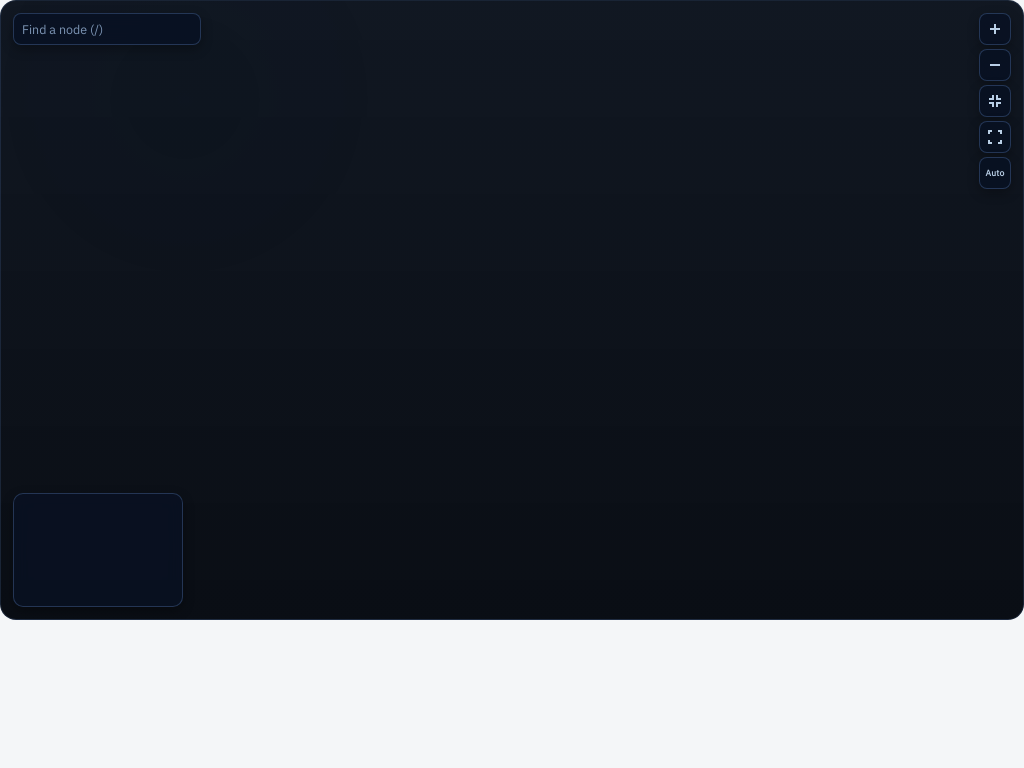
GraphCanvas map improvements › highlights search matches and centers the active one
Type "treasury" into the field with placeholder "Find a node (/)".
click(107, 29); type("treasury")  # box left=22, top=18, right=192, bottom=40
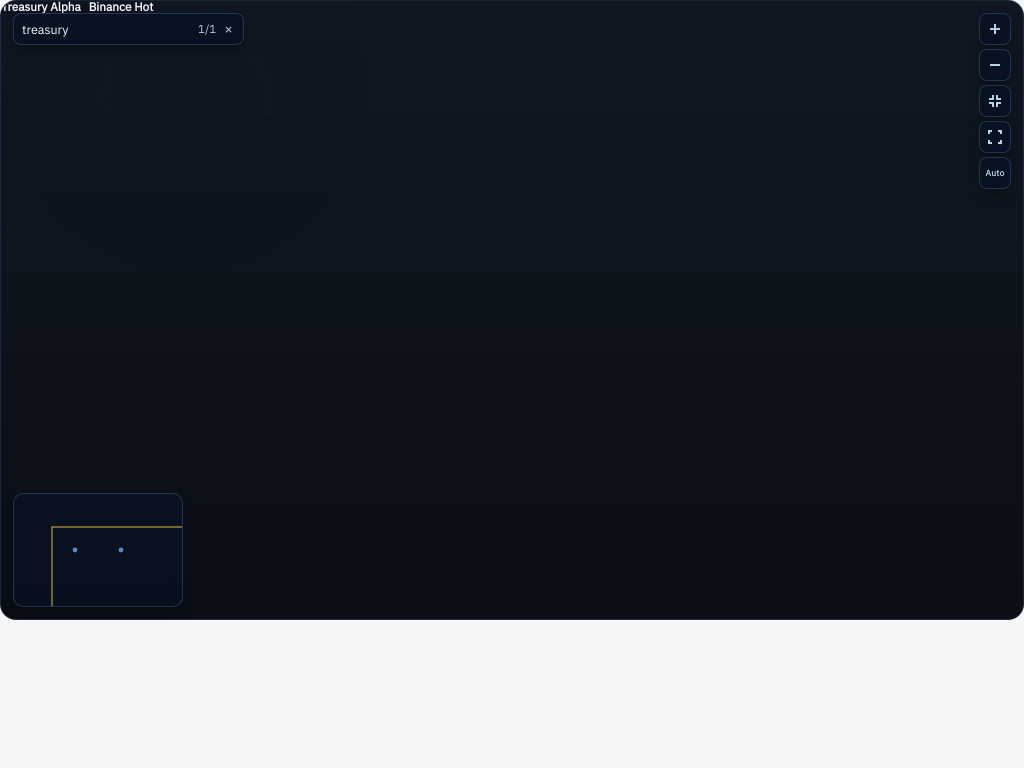
expect the text "1/1" is shown: met, box left=198, top=21, right=216, bottom=37
